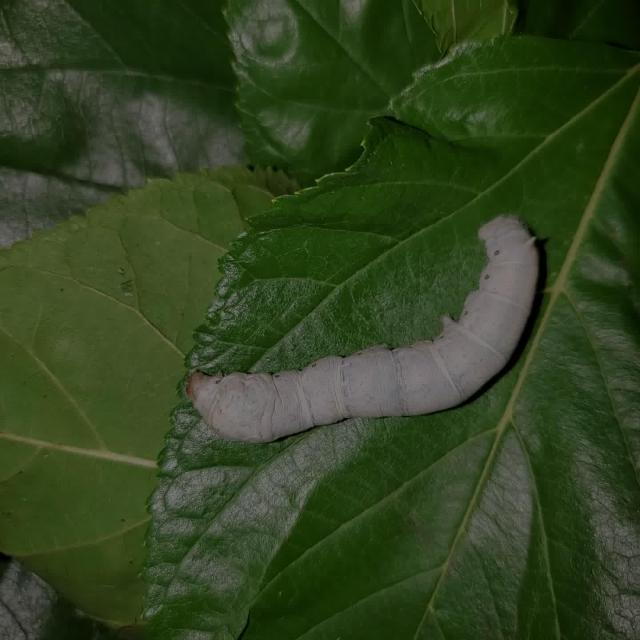Healthy: (132, 194, 586, 458)
